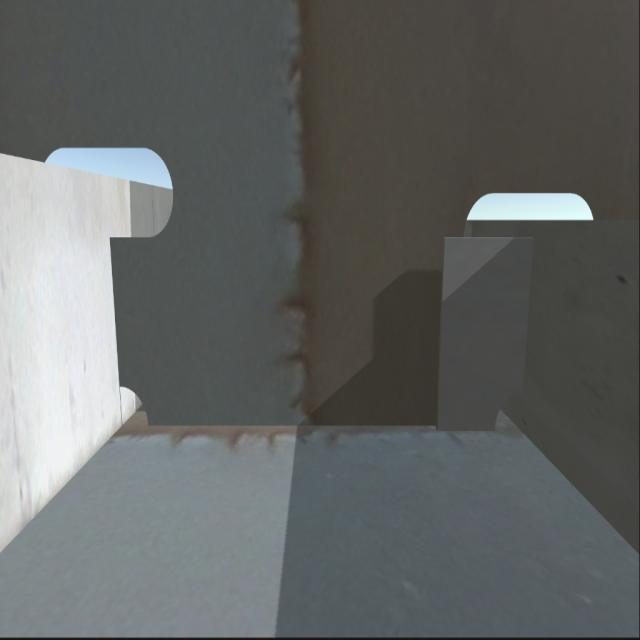fillet_hole: (116, 379, 157, 433), (495, 381, 526, 429)
fillet_yong_jeop_jang: (143, 412, 497, 436)
longi_yong_jeop_jang: (104, 231, 134, 388), (516, 237, 538, 404)
plate_CP01: (437, 229, 531, 431)
